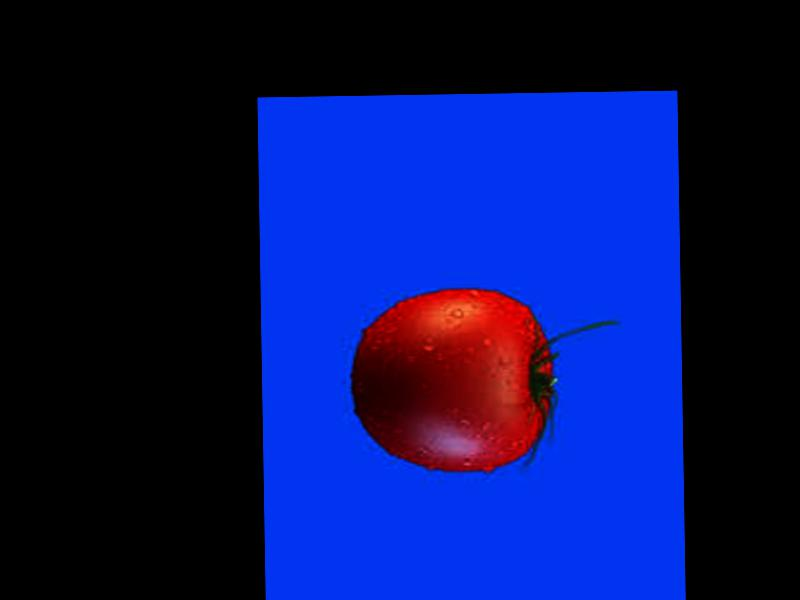Tomato: (350, 287, 555, 475)
